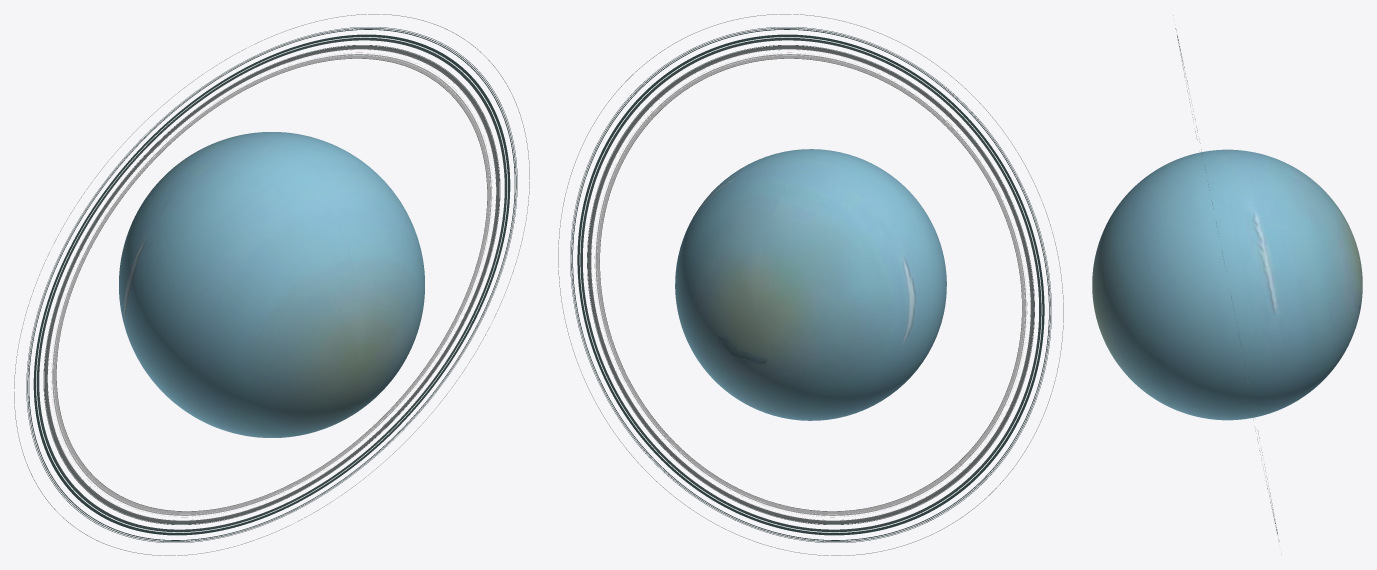
File: uranus.glb
3 views of the same model, side by side, from view 1: azimuth 30°, elevation 25°; view 2: azimuth 150°, elevation 25°; view 3: azimuth 270°, elevation 25° (orthographic). The views are drawn at different scales.
Parts seen in each view (by area): view 1: node_id142, node_id144; view 2: node_id142, node_id144; view 3: node_id142.
Part boxes in pixels (x1,y1,x2,y2): node_id142: (119, 132, 424, 437); node_id144: (14, 14, 529, 555); node_id142: (675, 149, 946, 420); node_id144: (558, 14, 1063, 555); node_id142: (1092, 149, 1362, 420).
Size of the model in its own units: 0.51 by 0.5039 by 0.2506.
2 materials, 2 textured.
